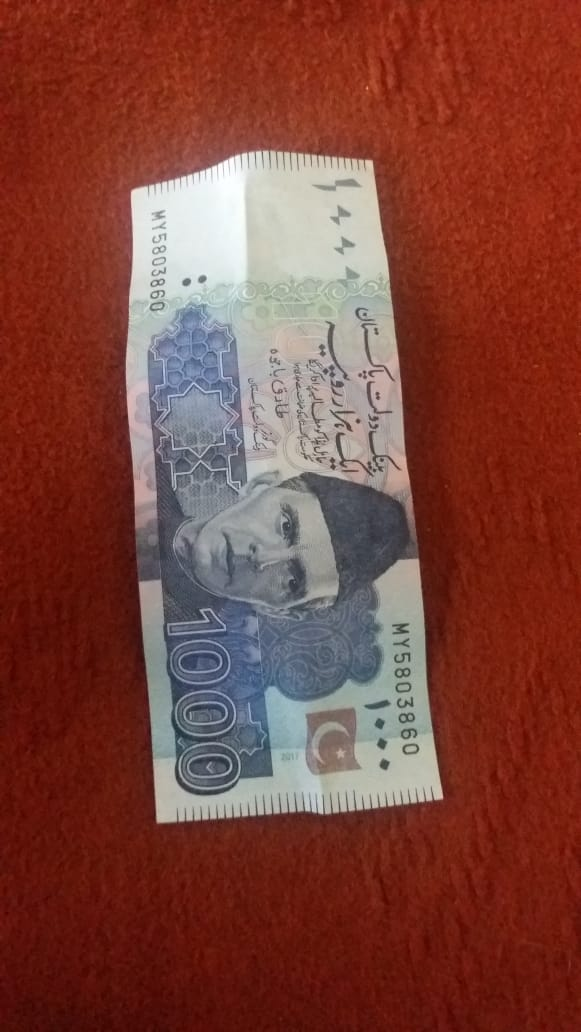1000 rupee: (91, 138, 466, 848)
